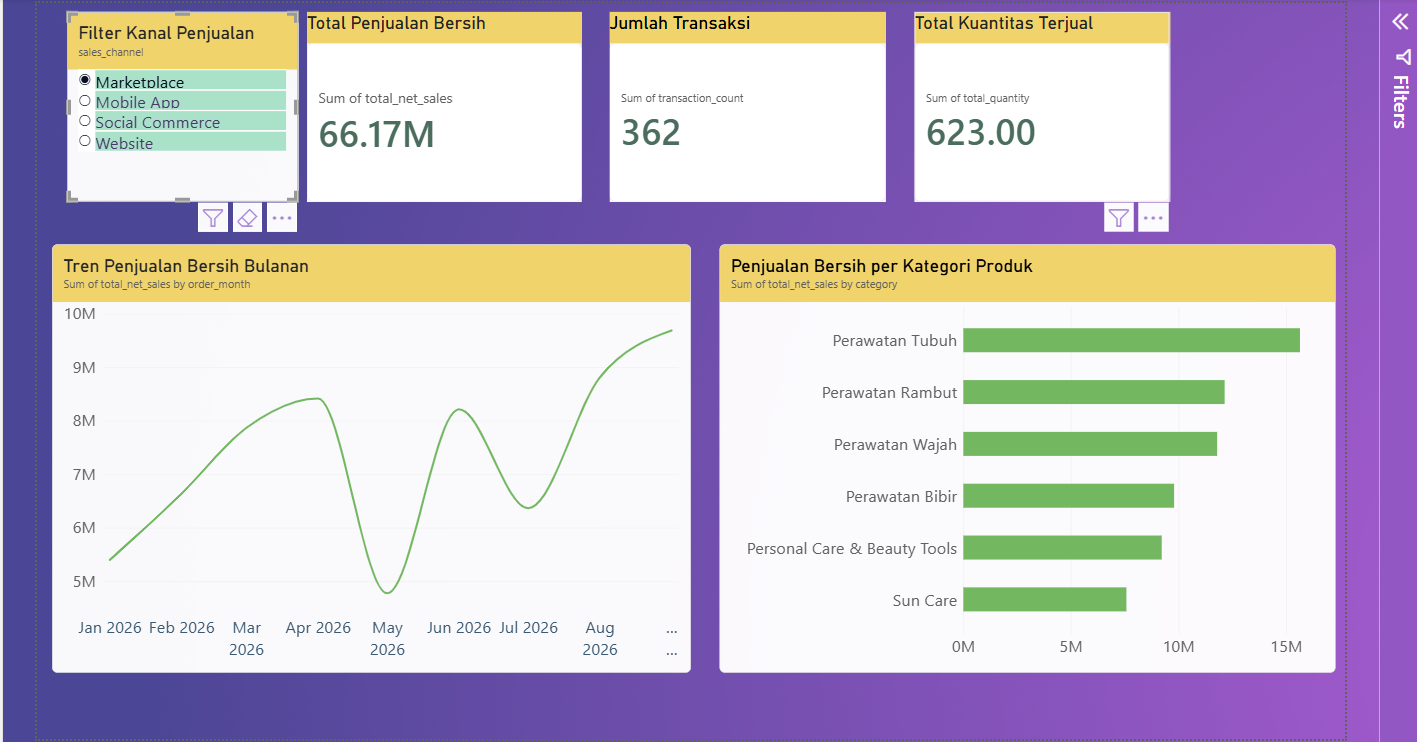

What the dashboard file says about the page in this screenshot:
{"tool":"powerbi","page":{"name":"Ringkasan Penjualan","canvas":[1920,1080],"ordinal":0},"visuals":[{"type":"cardVisual","title":"Total Penjualan Bersih","fields":{"Data":["Sum(warehouse   main   mart_sales_analysis.total_net_sales)"]},"box":[396.2,12.8,403.5,278.8],"z":1},{"type":"lineChart","title":"Tren Penjualan Bersih Bulanan","fields":{"Category":["warehouse   main   mart_sales_analysis.order_month"],"Y":["Sum(warehouse   main   mart_sales_analysis.total_net_sales)"]},"box":[22,354,937.3,629.1],"z":2},{"type":"clusteredBarChart","title":"Penjualan Bersih per Kategori Produk","fields":{"Category":["warehouse   main   mart_sales_analysis.category"],"Y":["Sum(warehouse   main   mart_sales_analysis.total_net_sales)"]},"box":[1001.5,354,904.3,629.1],"z":3},{"type":"listSlicer","title":"Filter Kanal Penjualan","fields":{"Values":["warehouse   main   mart_sales_analysis.sales_channel"]},"box":[43.4,12.7,340.2,278.7],"z":4},{"type":"cardVisual","title":"Jumlah Transaksi","fields":{"Data":["Sum(warehouse   main   mart_sales_analysis.transaction_count)"]},"box":[840.1,12.8,405.4,278.8],"z":5},{"type":"cardVisual","title":"Total Kuantitas Terjual","fields":{"Data":["Sum(warehouse   main   mart_sales_analysis.total_quantity)"]},"box":[1287.6,12.8,374.2,278.8],"z":6}]}

Visuals, with their boxes in screenshot pixels (x1, y1, x2, y2):
"Total Penjualan Bersih" cardVisual: 305:12:579:201
"Tren Penjualan Bersih Bulanan" lineChart: 52:243:687:670
"Penjualan Bersih per Kategori Produk" clusteredBarChart: 715:243:1328:670
"Filter Kanal Penjualan" listSlicer: 66:12:297:201
"Jumlah Transaksi" cardVisual: 606:12:880:201
"Total Kuantitas Terjual" cardVisual: 909:12:1162:201
